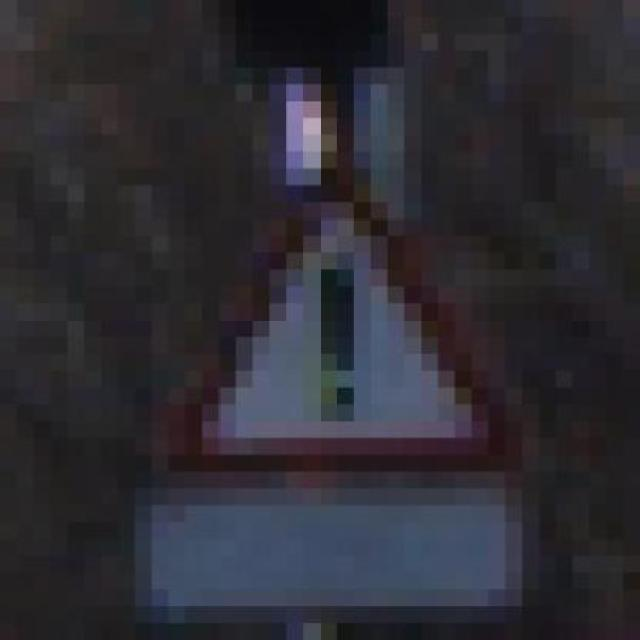Attention Please-: (134, 168, 506, 472)
